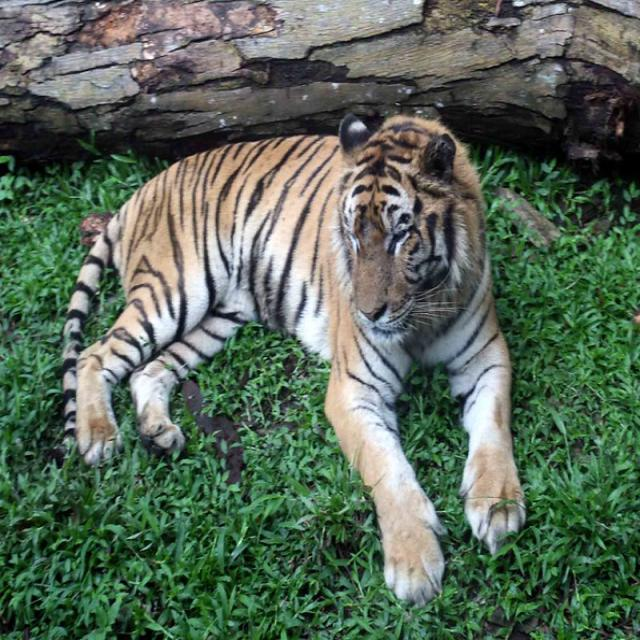Tiger: (56, 105, 526, 602)
